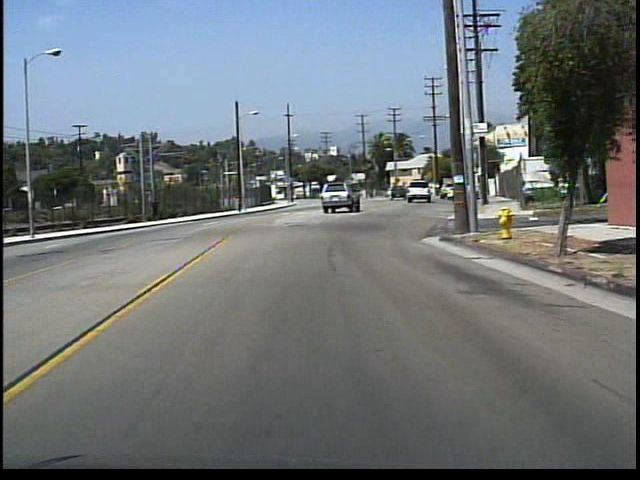person: (151, 192, 166, 222)
